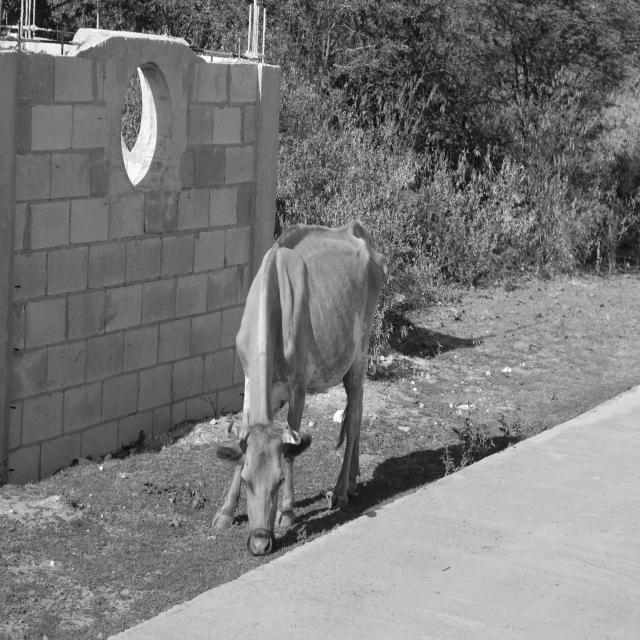cow: (212, 222, 388, 555)
